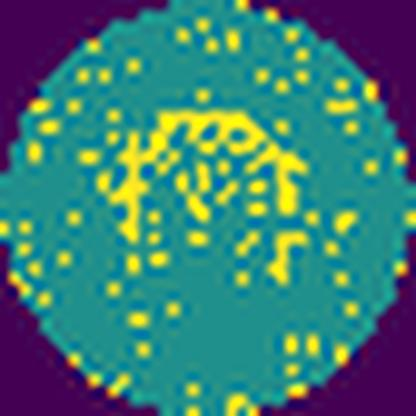Donut: (92, 105, 316, 306)
